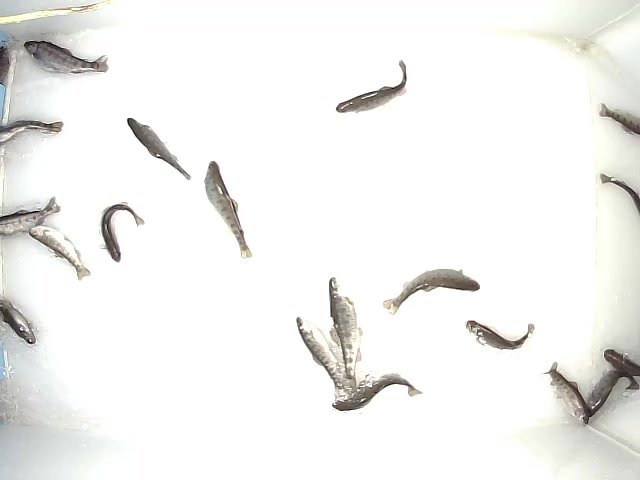fish: (204, 158, 256, 262), (380, 264, 482, 315), (294, 317, 347, 398), (127, 115, 192, 181), (333, 59, 408, 113), (329, 370, 424, 411), (329, 274, 364, 379), (576, 368, 640, 422), (29, 226, 89, 282), (22, 39, 109, 75), (99, 199, 146, 265), (542, 360, 588, 426), (463, 315, 536, 353)
